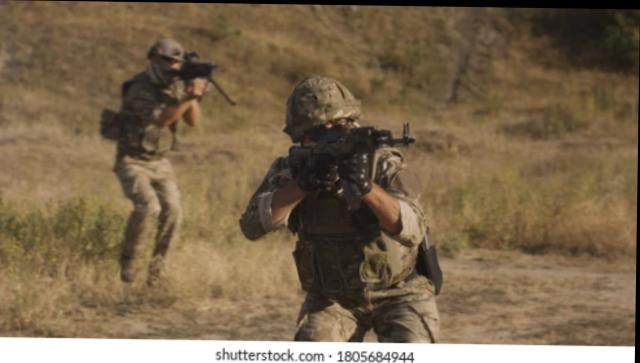other: (275, 71, 444, 340), (107, 35, 213, 282)
